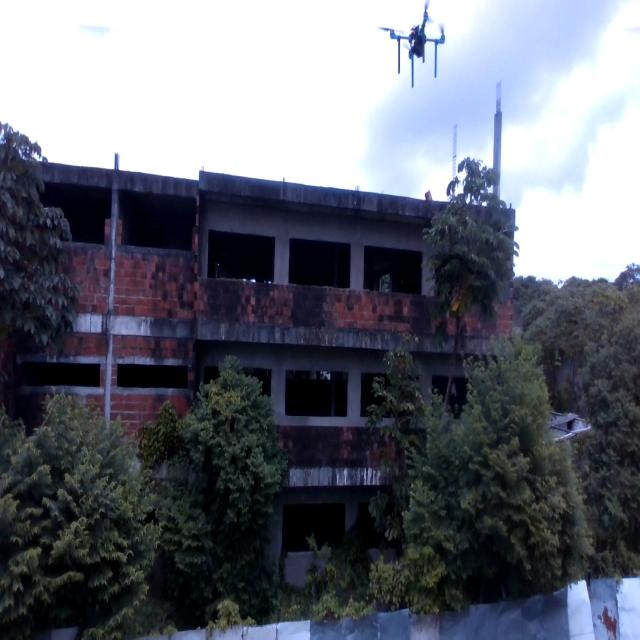-uav-: (372, 0, 451, 99)
